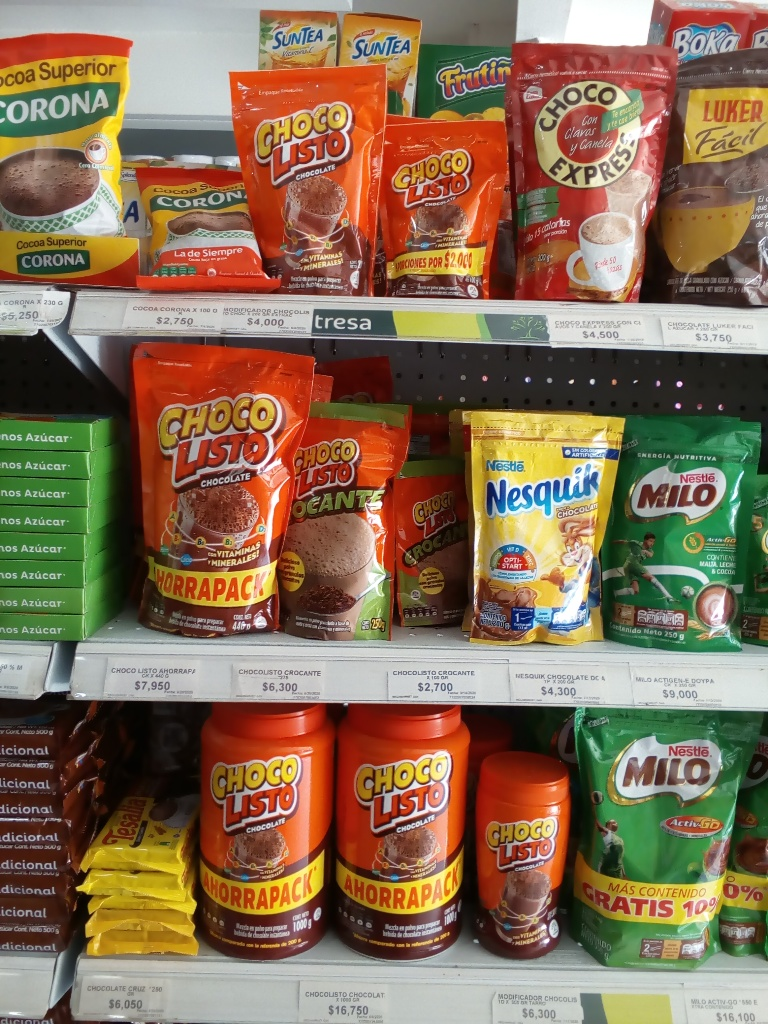COL0170102DYP10000: (376, 454, 477, 635)
COL0170102DYP25000: (284, 390, 410, 643)
COL0170103DYP10000: (376, 111, 514, 303)
COL0170103DYP20000: (229, 66, 396, 300)
COL0170103DYP44000: (134, 339, 333, 645)
COL0170103TRR00100: (195, 702, 340, 965)
COL0170103TRR30000: (469, 751, 572, 967)
COL0170203DYP25000: (609, 405, 764, 650)
COL0170303DYP20000: (473, 407, 623, 649)
